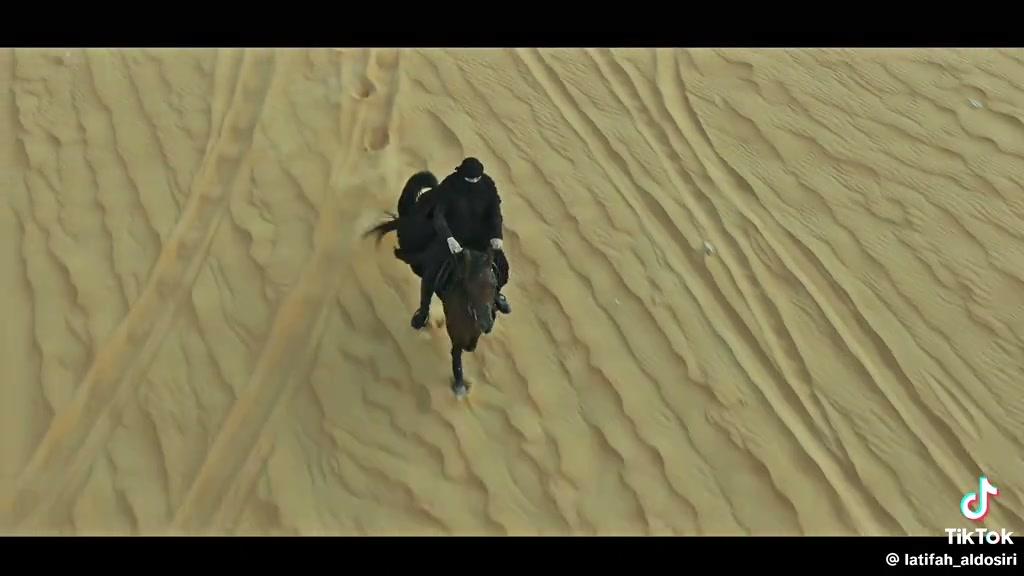animal: (364, 171, 497, 397)
human: (411, 157, 510, 329)
vehicle_track: (532, 56, 923, 526), (657, 52, 1023, 534), (579, 38, 868, 476), (14, 52, 273, 529), (170, 44, 395, 526)
